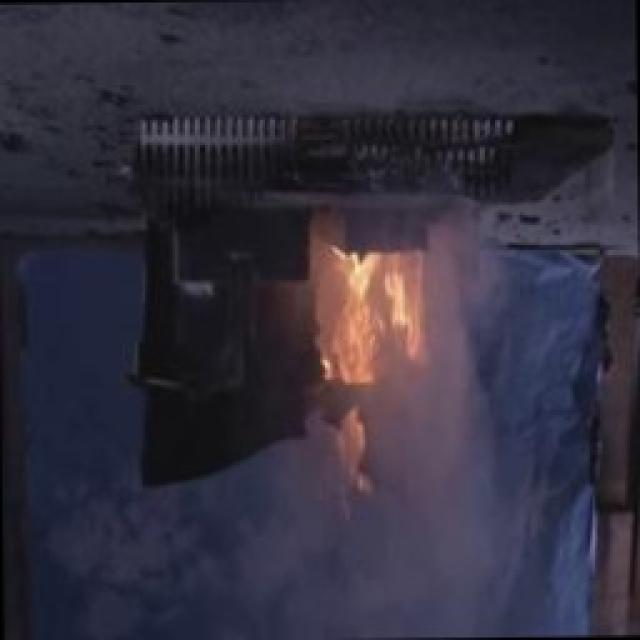fire: (280, 218, 462, 498)
